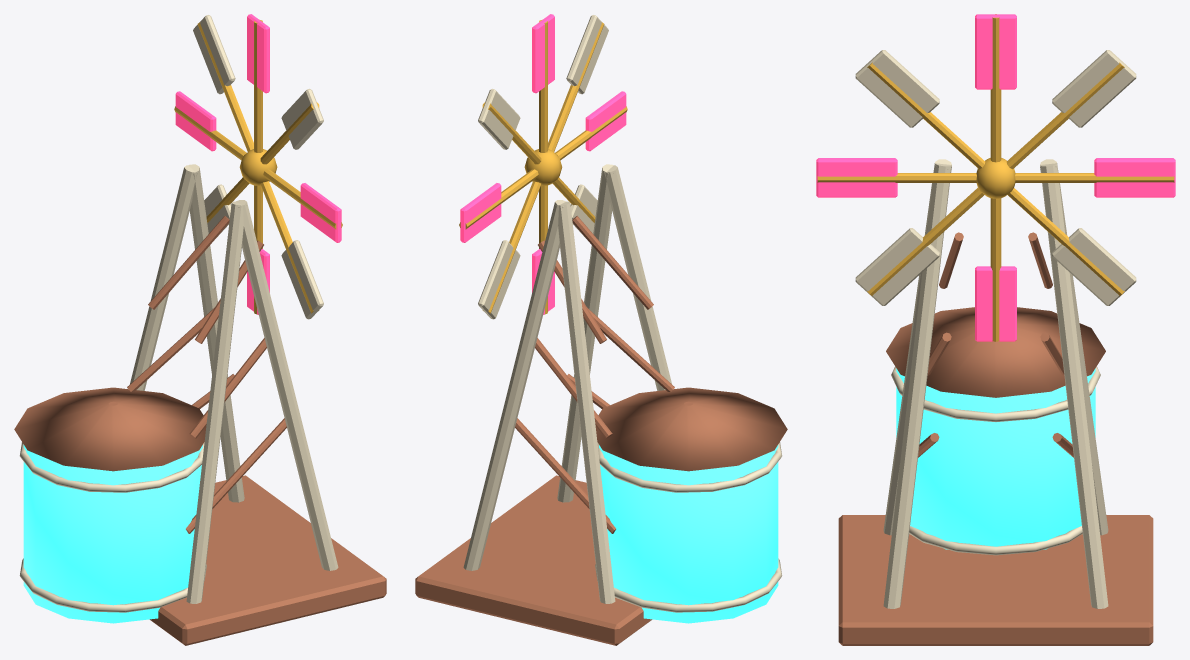
File: landmark_canyon.glb
3 renders of one model, left to right at view 1: azimuth 30°, elevation 25°; view 2: azimuth 150°, elevation 25°; view 3: azimuth 270°, elevation 25°, orthographic. The views are drawn at different scales.
Parts seen in each view (by area): view 1: static_Terracotta, static_Neon cyan, static_Warm ivory, anim_rotor; view 2: static_Terracotta, static_Neon cyan, static_Warm ivory, anim_rotor; view 3: static_Terracotta, anim_rotor, static_Neon cyan, static_Warm ivory.
Boxes of the visible parts, box(x1,y1,x2,y2) form: static_Terracotta: box(14, 216, 386, 645); static_Neon cyan: box(23, 445, 202, 623); static_Warm ivory: box(19, 164, 338, 612); anim_rotor: box(174, 14, 342, 319); static_Terracotta: box(415, 216, 787, 645); static_Neon cyan: box(599, 445, 778, 623); static_Warm ivory: box(463, 164, 782, 612); anim_rotor: box(459, 14, 627, 319); static_Terracotta: box(838, 232, 1153, 645); anim_rotor: box(816, 14, 1175, 341); static_Neon cyan: box(896, 368, 1095, 549); static_Warm ivory: box(883, 159, 1108, 608).
Bounding box in the file's own units: 7.1 × 12.62 × 6.85.
